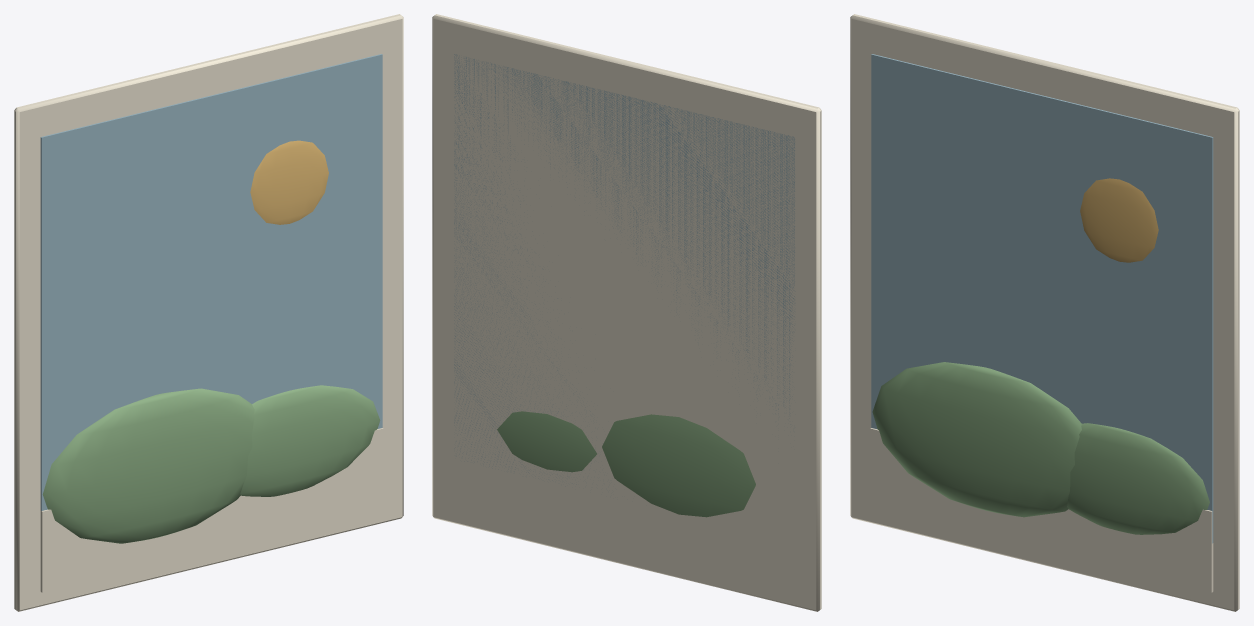
The model's file is poster.glb.
3 views of the same model, side by side, from view 1: azimuth 30°, elevation 25°; view 2: azimuth 150°, elevation 25°; view 3: azimuth 330°, elevation 25° (orthographic).
Visible parts, largest first — view 1: poster_a, paper, poster_b, poster_c; view 2: paper, poster_a, poster_b; view 3: poster_a, paper, poster_b, poster_c.
Boxes of the visible parts, x1,y1,x2,y2 form: poster_a: [40, 54, 382, 510]; paper: [14, 14, 403, 611]; poster_b: [42, 385, 380, 543]; poster_c: [250, 140, 328, 224]; paper: [432, 14, 821, 611]; poster_a: [454, 54, 795, 486]; poster_b: [497, 411, 755, 517]; poster_a: [871, 54, 1213, 543]; paper: [850, 14, 1239, 611]; poster_b: [872, 362, 1209, 534]; poster_c: [1080, 178, 1158, 262].
Bounding box in the file's own units: 0.5 × 0.62 × 0.03.
